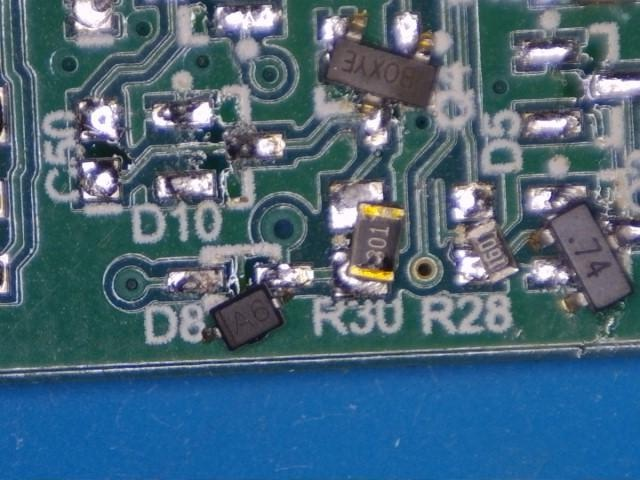pcb_defect: (323, 12, 440, 145), (527, 187, 640, 315), (202, 266, 312, 351), (330, 182, 406, 297), (454, 184, 522, 285)
